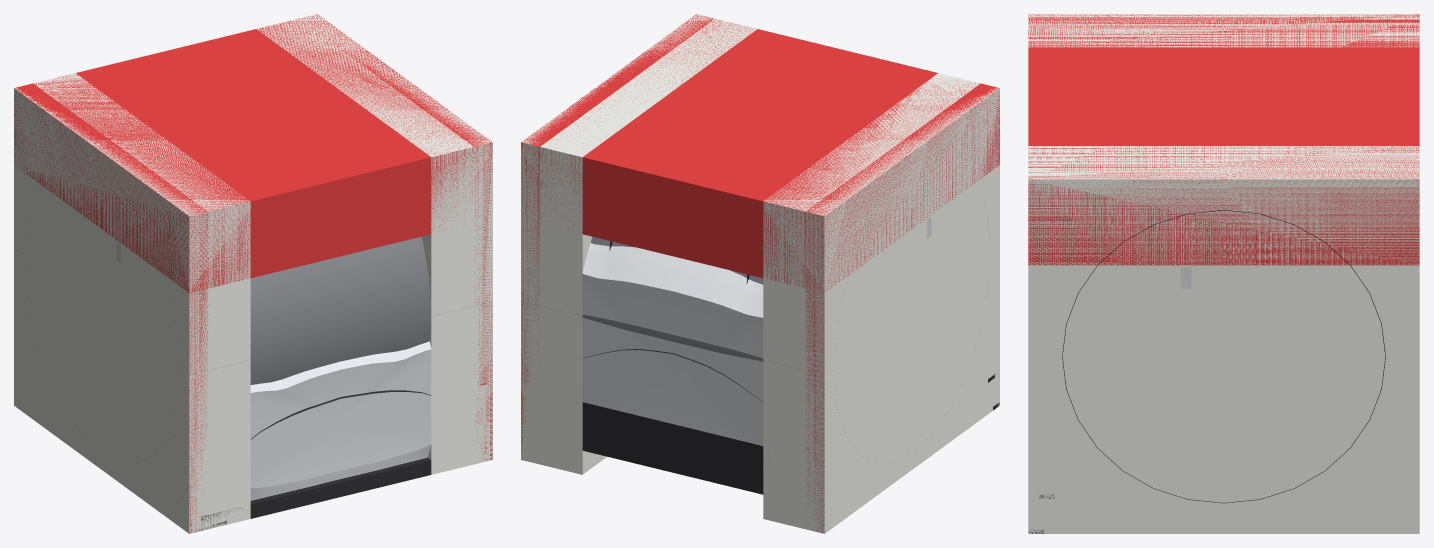
3 views of the same model, side by side, from view 1: azimuth 30°, elevation 25°; view 2: azimuth 150°, elevation 25°; view 3: azimuth 270°, elevation 25° (orthographic). The views are drawn at different scales.
Parts seen in each view (by area): view 1: gt_head, gt_tail, gt_body, gt_rim_FL, gt_rim_FR, gt_trim; view 2: gt_head, gt_tail, gt_body, gt_trim, gt_rim_RL, gt_rim_RR; view 3: gt_head, gt_tail, gt_tyre_RL.
Part boxes in pixels (x1,y1,x2,y2): gt_head: (14, 14, 492, 533); gt_tail: (14, 14, 492, 533); gt_body: (116, 241, 431, 500); gt_rim_FL: (190, 236, 491, 384); gt_rim_FR: (230, 238, 430, 384); gt_trim: (201, 457, 431, 527); gt_head: (521, 14, 999, 533); gt_tail: (521, 14, 999, 532); gt_body: (582, 217, 931, 445); gt_trim: (582, 402, 763, 494); gt_rim_RL: (583, 236, 812, 372); gt_rim_RR: (521, 242, 771, 362); gt_head: (1028, 14, 1419, 533); gt_tail: (1028, 14, 1419, 265); gt_tyre_RL: (1081, 210, 1385, 503).
Bounding box in the file's own units: 65536 × 65534 × 65537.
